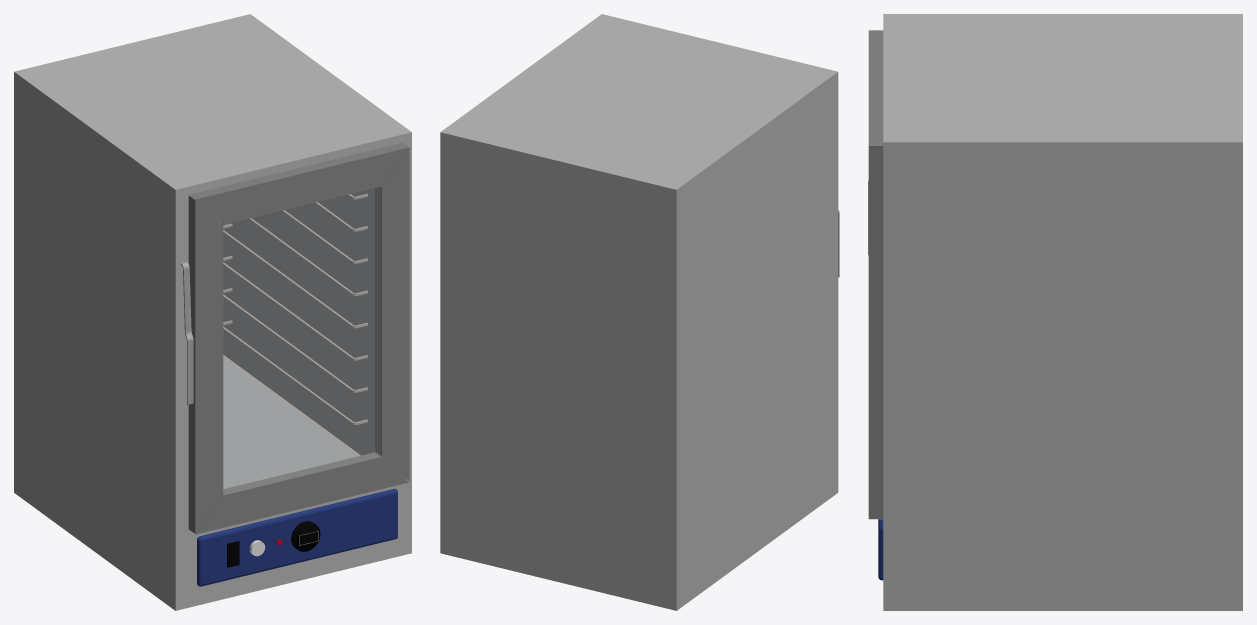
The model's file is Heated-Cabinet-9.glb.
3 views of the same model, side by side, from view 1: azimuth 30°, elevation 25°; view 2: azimuth 150°, elevation 25°; view 3: azimuth 270°, elevation 25° (orthographic). The views are drawn at different scales.
Visible parts, largest first — view 1: Heated_cabinet_ATHC-9ES; view 2: Heated_cabinet_ATHC-9ES; view 3: Heated_cabinet_ATHC-9ES.
Part boxes in pixels (x1=…): Heated_cabinet_ATHC-9ES: x1=14, y1=14, x2=411, y2=610; Heated_cabinet_ATHC-9ES: x1=440, y1=14, x2=839, y2=610; Heated_cabinet_ATHC-9ES: x1=868, y1=14, x2=1242, y2=610.
Bounding box in the file's own units: 0.4396 × 0.7482 × 0.5422.
